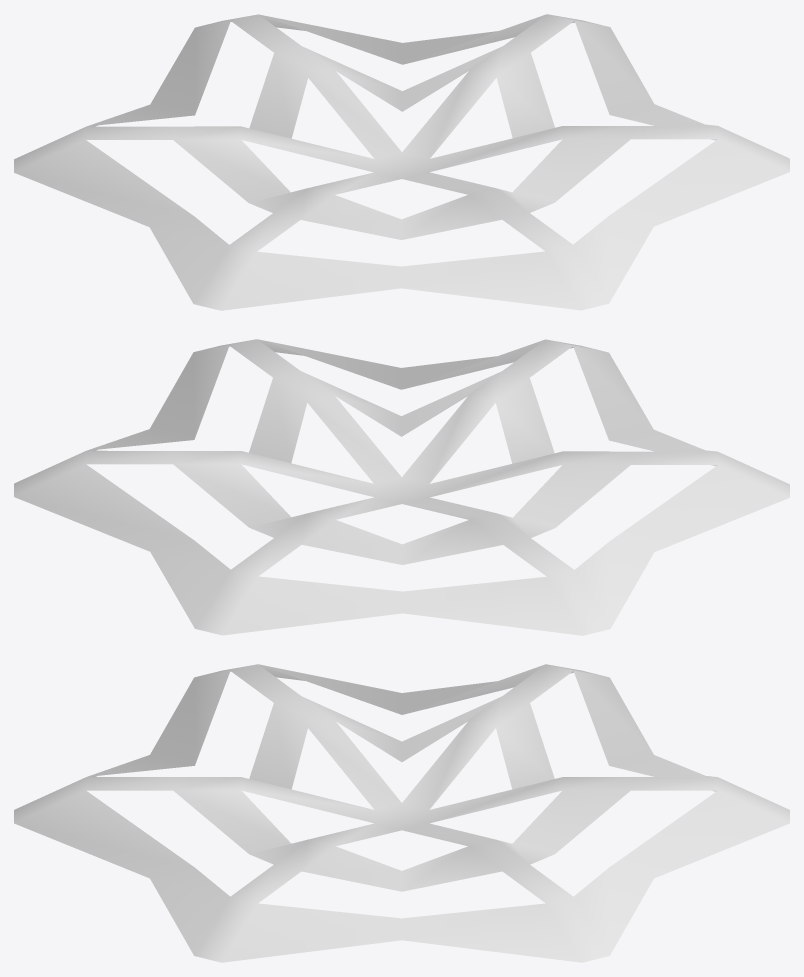
Rendered from Spider_Web.fbx.
3 views of the same model, one above another, from view 1: azimuth 30°, elevation 25°; view 2: azimuth 150°, elevation 25°; view 3: azimuth 270°, elevation 25° (orthographic).
Visible parts, largest first — view 1: Spider_Web; view 2: Spider_Web; view 3: Spider_Web.
Boxes of the visible parts, x1,y1,x2,y2 form: Spider_Web: [14, 14, 789, 310]; Spider_Web: [14, 339, 789, 635]; Spider_Web: [14, 664, 789, 962].
Size of the model in its own units: 0.9858 by 0.0517 by 1.11.
